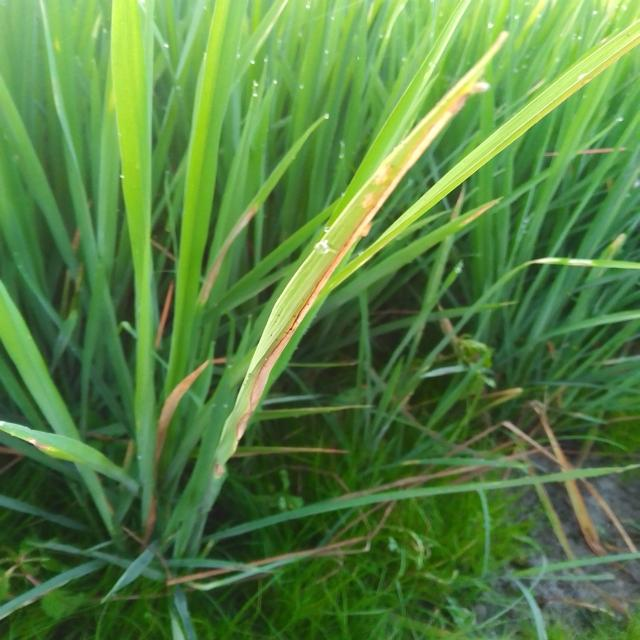Brown spot: (180, 30, 529, 519)
